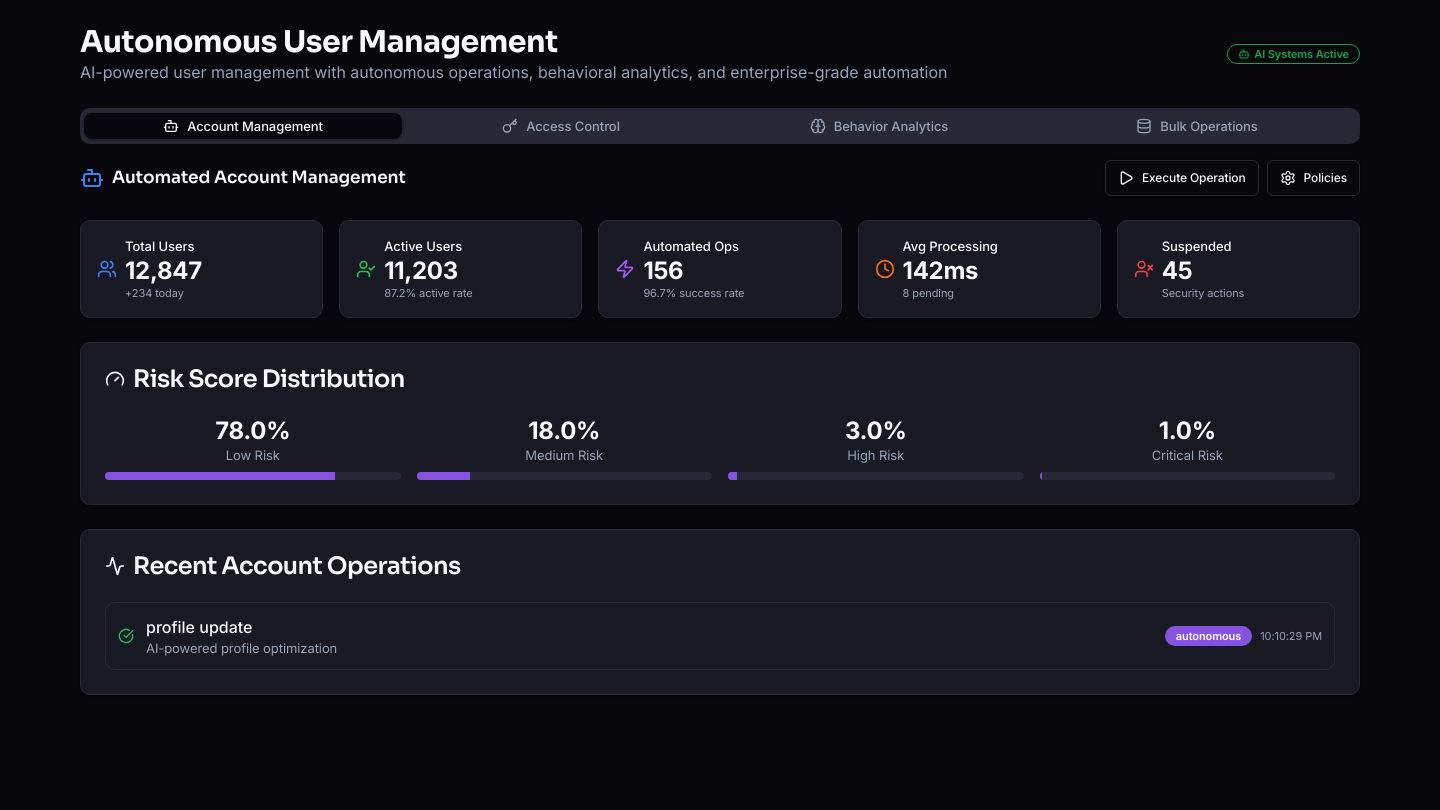
Test case: AutonomousUserManagementDashboard › displays bulk operations metrics correctly
The image size is (1440, 810).
Click the tab "Bulk Operations" at point(1197, 126), box x1=1038 y1=113 x2=1356 y2=139
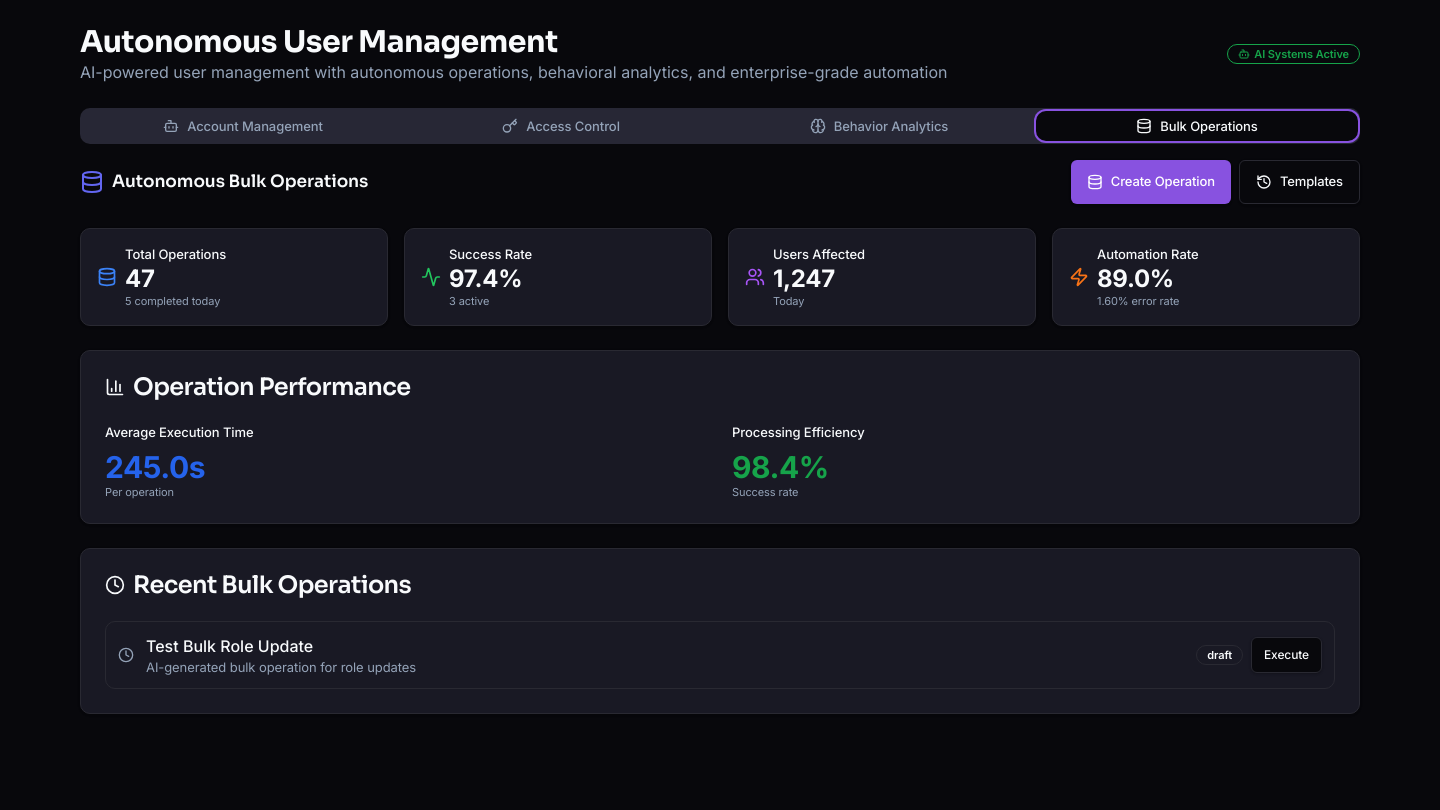
Check: the text "47" is shown, box x1=125 y1=264 x2=155 y2=293
Check: the text "97.4%" is shown, box x1=449 y1=263 x2=532 y2=294
Check: the text "89.0%" is shown, box x1=1097 y1=264 x2=1174 y2=293
